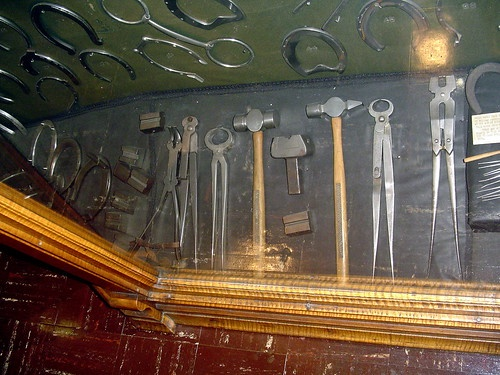hammer: (302, 96, 360, 278), (231, 107, 276, 267)
